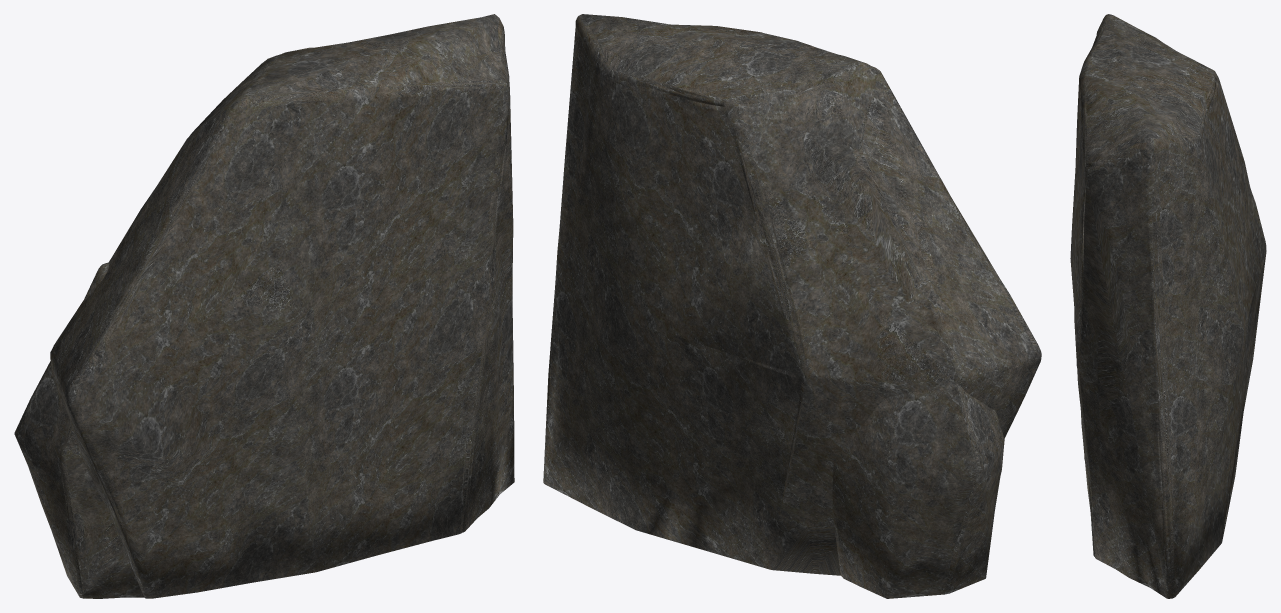
Rendered from cliff_slab_LOD0.fbx.
3 views of the same model, side by side, from view 1: azimuth 30°, elevation 25°; view 2: azimuth 150°, elevation 25°; view 3: azimuth 270°, elevation 25° (orthographic). The views are drawn at different scales.
Parts seen in each view (by area): view 1: cliff_slab_LOD0; view 2: cliff_slab_LOD0; view 3: cliff_slab_LOD0.
Boxes of the visible parts, left/top/right/bottom form: cliff_slab_LOD0: left=14, top=14, right=514, bottom=598; cliff_slab_LOD0: left=543, top=14, right=1041, bottom=598; cliff_slab_LOD0: left=1070, top=14, right=1266, bottom=598.
Size of the model in its own units: 500 by 479 by 190.
